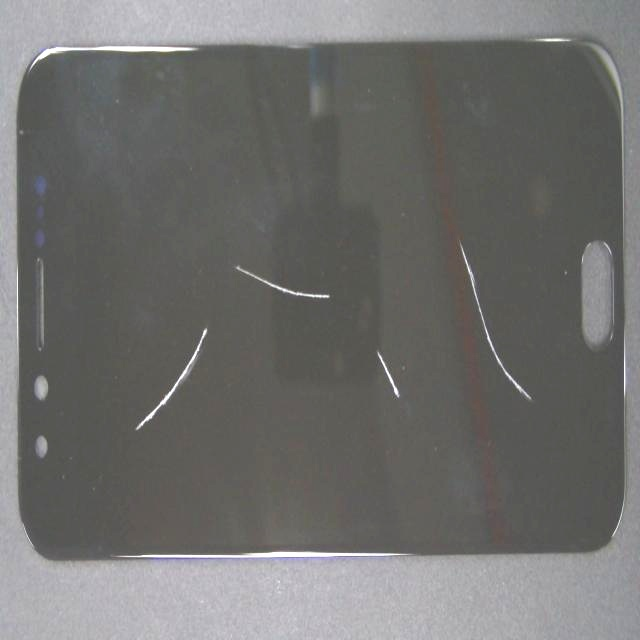scratch: (211, 94, 640, 522), (234, 223, 602, 551), (227, 155, 457, 406), (144, 85, 260, 512)
